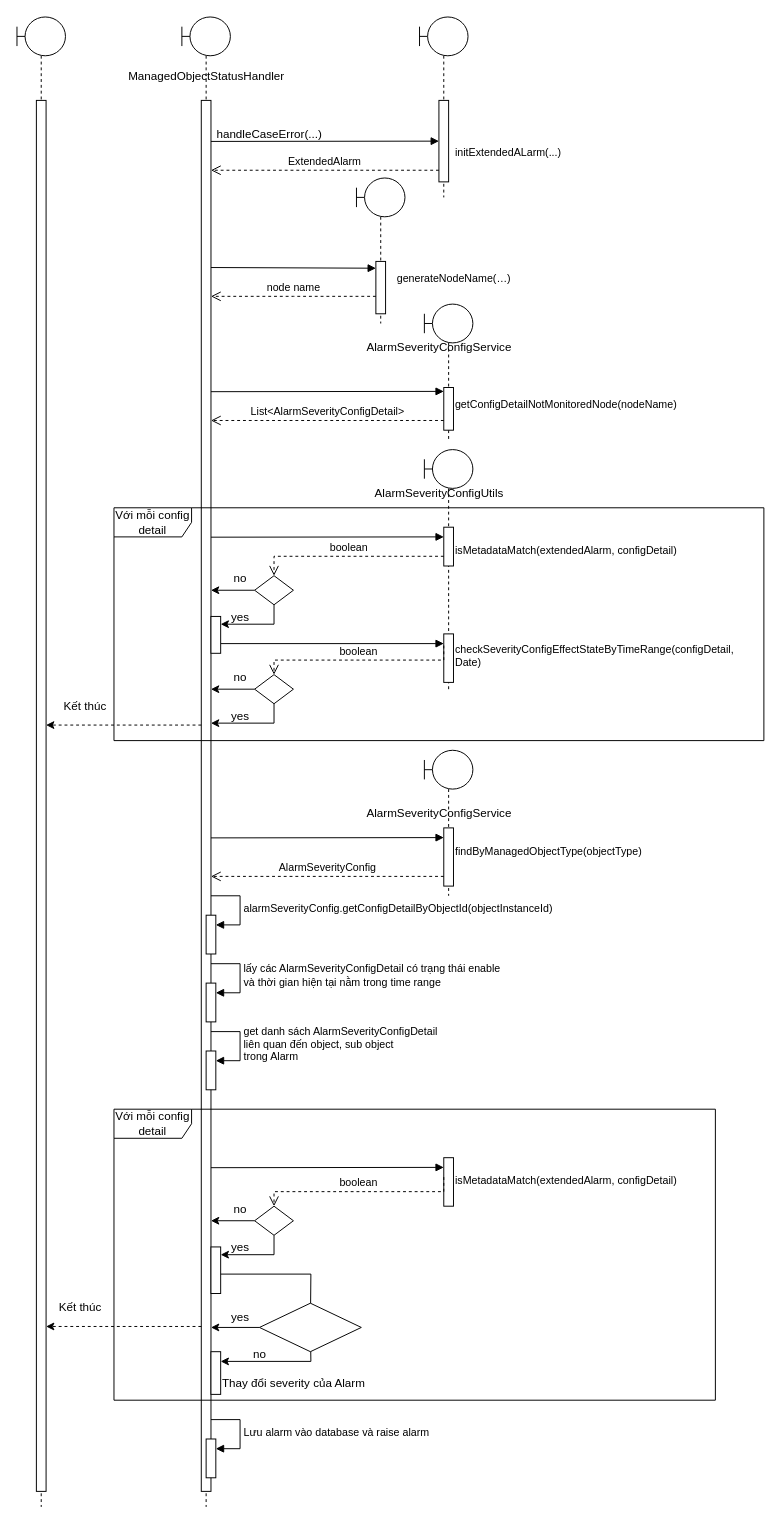
Image size: 781x1524. Some labels were removed from this diagram. The centre of each missing label's shape, as x and y in pixels:
"FaultDetailGenerator" belongs at pixel 443 106.
"NocproAlarmManager" belongs at pixel 380 250.
"Severity set to NONE?" belongs at pixel 310 1327.
